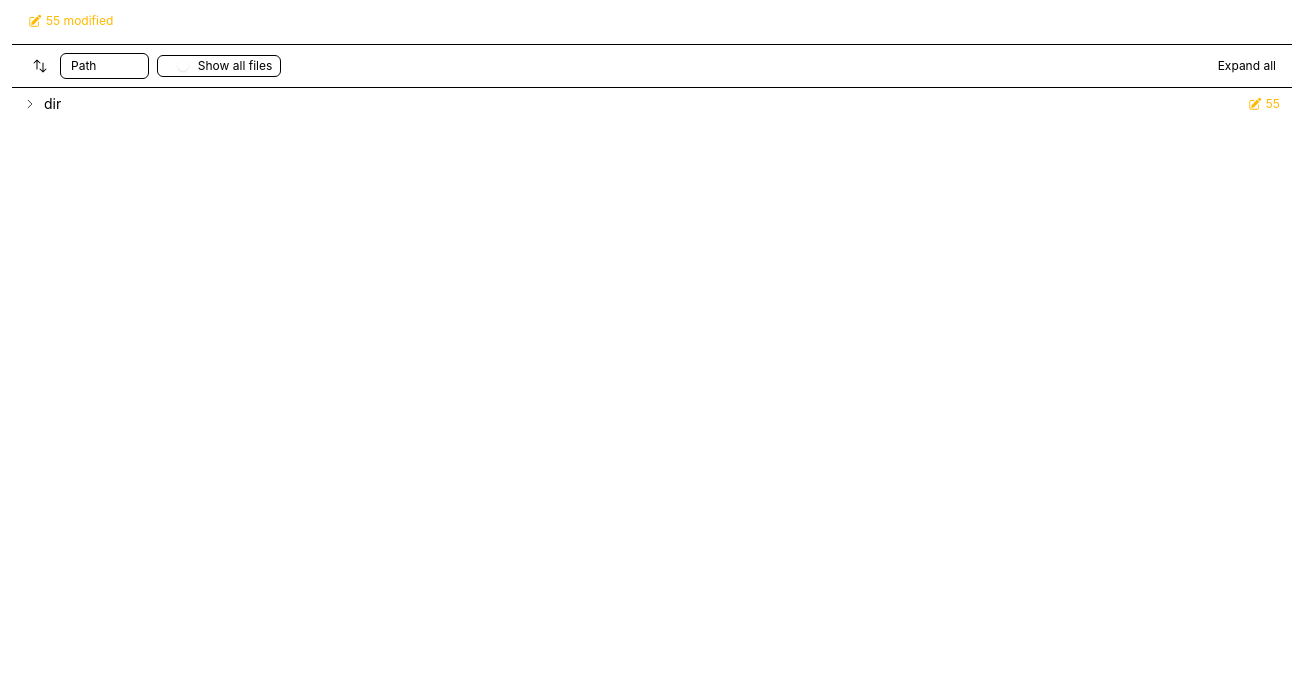
Test: CommitFileList › virtualizes tree rows and opens path view context menus
Click the button "Tree": (125, 66) [104,56,146,76]
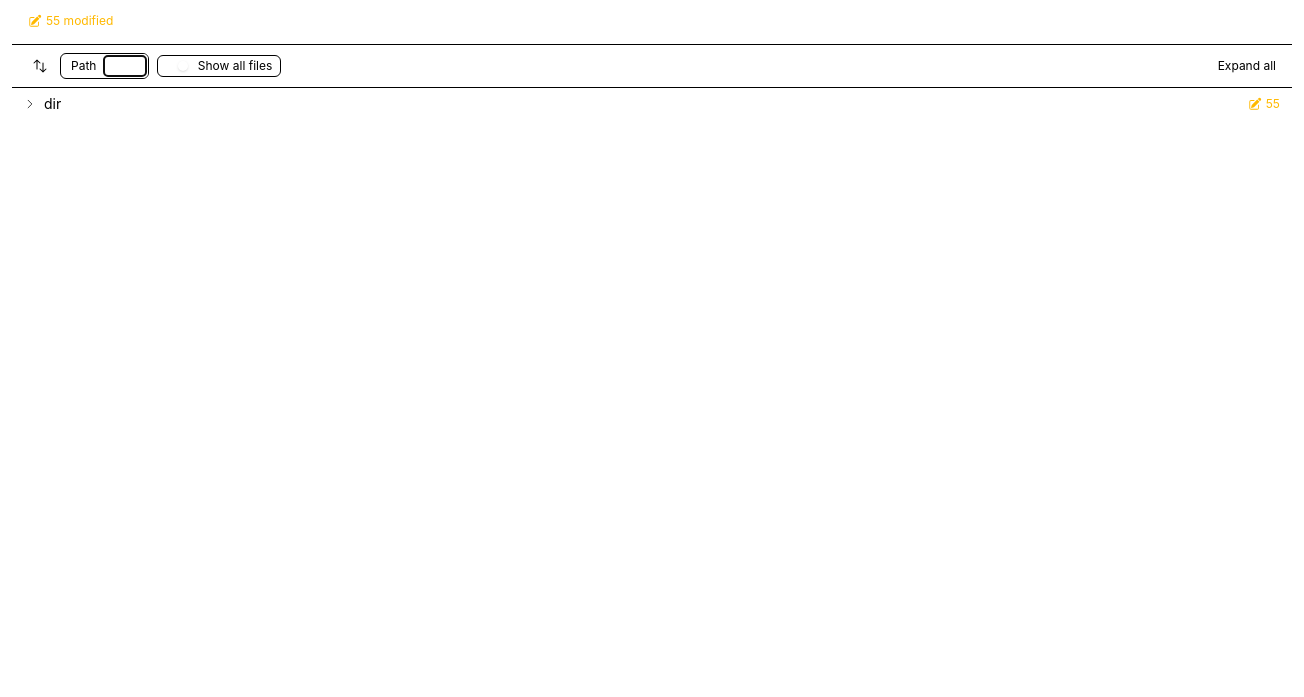
Click the button "Expand all": (1247, 66) [1218,58,1276,74]
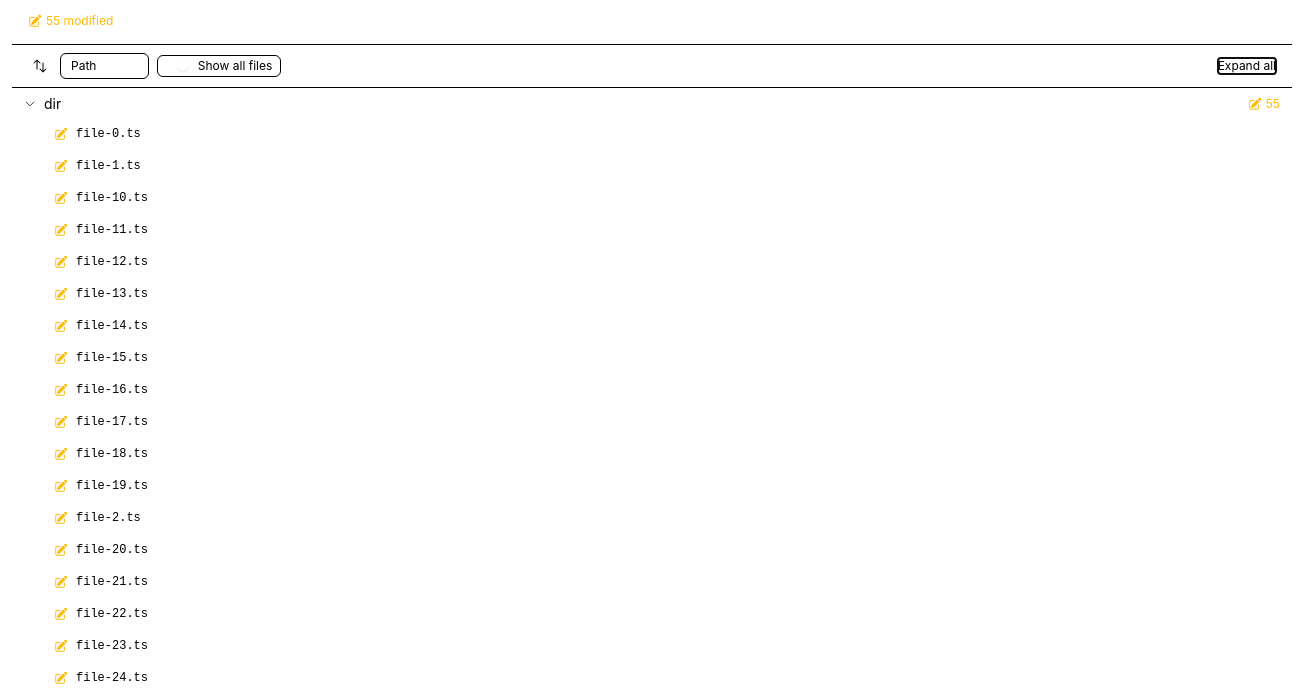
Expected: the text "file-0.ts" is shown, [76,126,141,142]
Click the button "Path": (84, 66) [63,56,104,76]
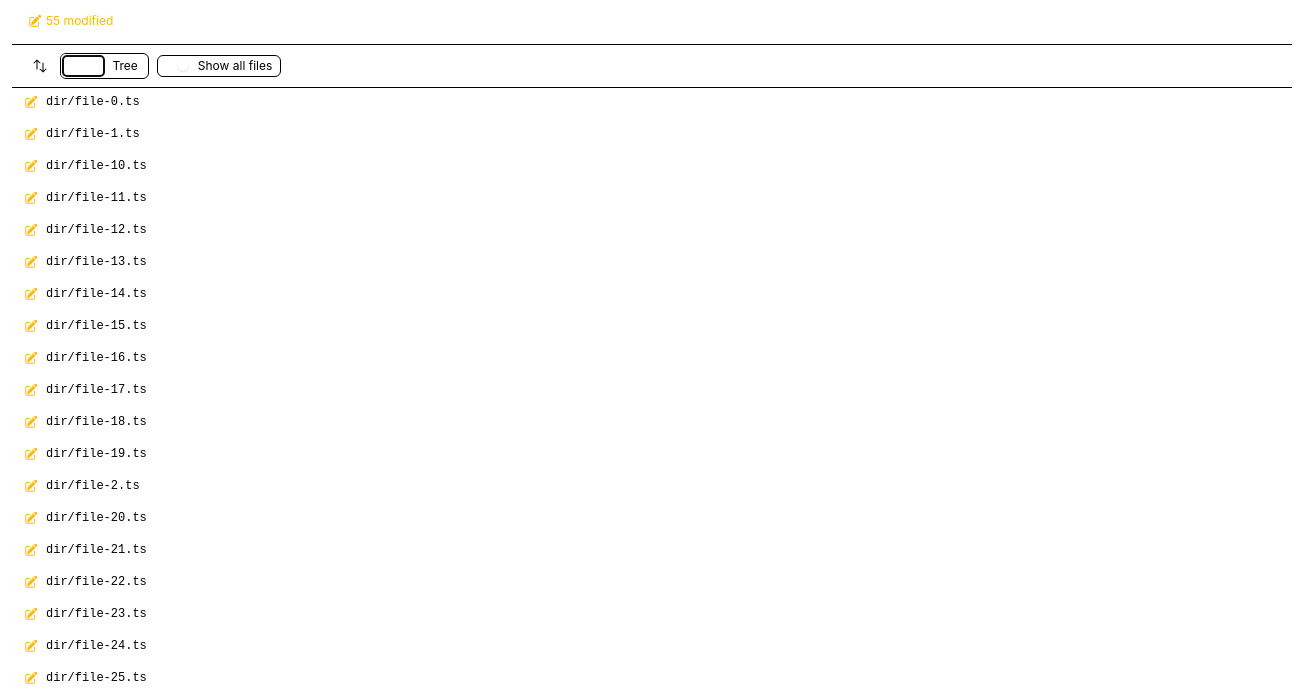
Right-click the button "dir/file-10.ts": (96, 166) [12,152,1292,180]
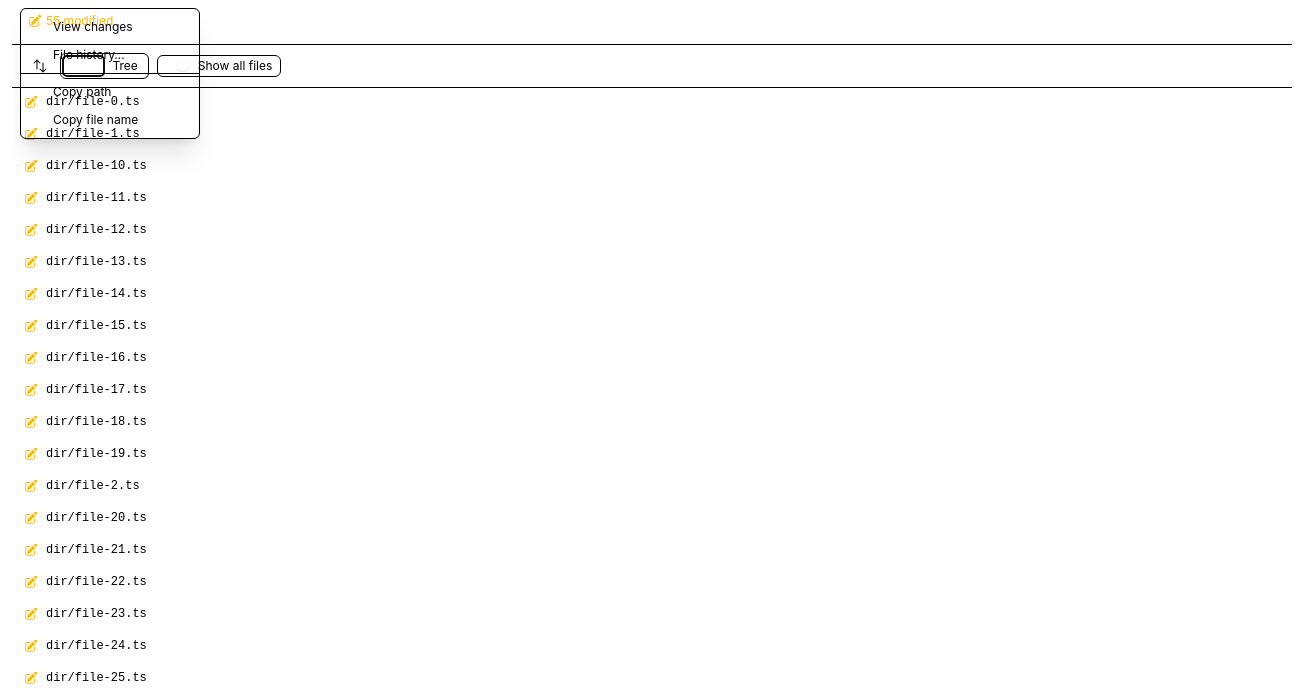
Expected: the menu item "Copy path" is shown, [21,78,199,106]
